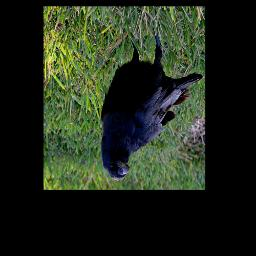Crow: (100, 24, 204, 181)
